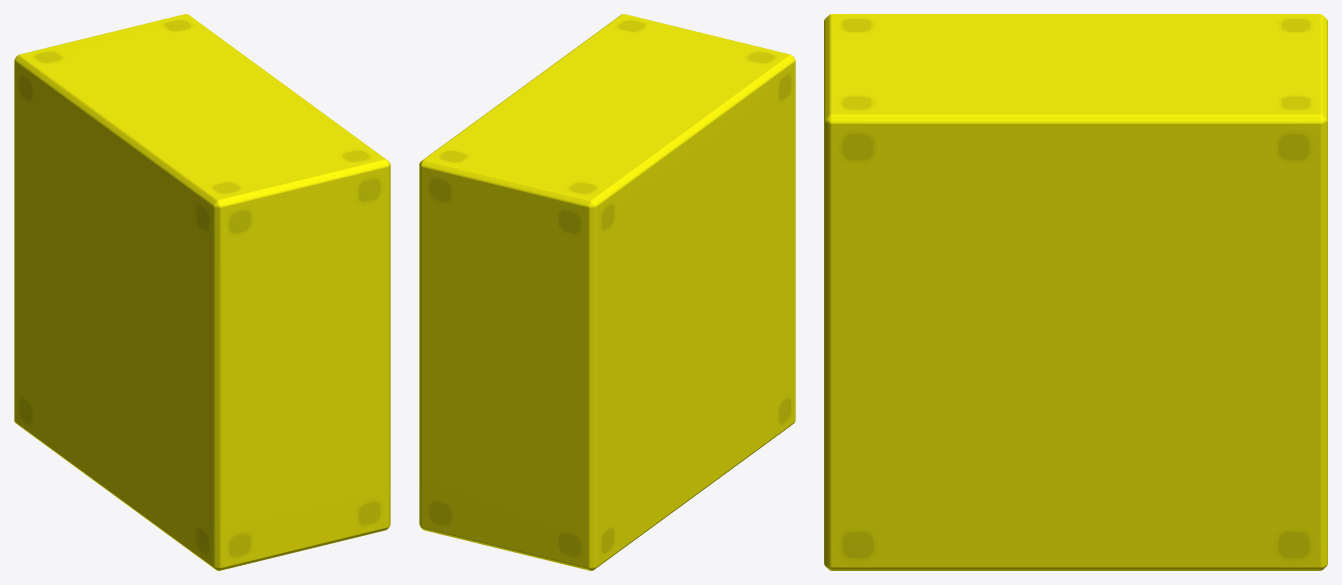
The model's file is WorkBlockRect2.fbx.
The picture shows the model from 3 angles, left to right: view 1: azimuth 30°, elevation 25°; view 2: azimuth 150°, elevation 25°; view 3: azimuth 270°, elevation 25°; orthographic projection. The views are drawn at different scales.
Parts seen in each view (by area): view 1: WorkBlockRect2; view 2: WorkBlockRect2; view 3: WorkBlockRect2.
Part boxes in pixels (box(x1,y1,x2,y2)): WorkBlockRect2: box(14, 14, 390, 570); WorkBlockRect2: box(419, 14, 795, 570); WorkBlockRect2: box(824, 14, 1327, 570).
Size of the model in its own units: 1 by 2 by 2.
